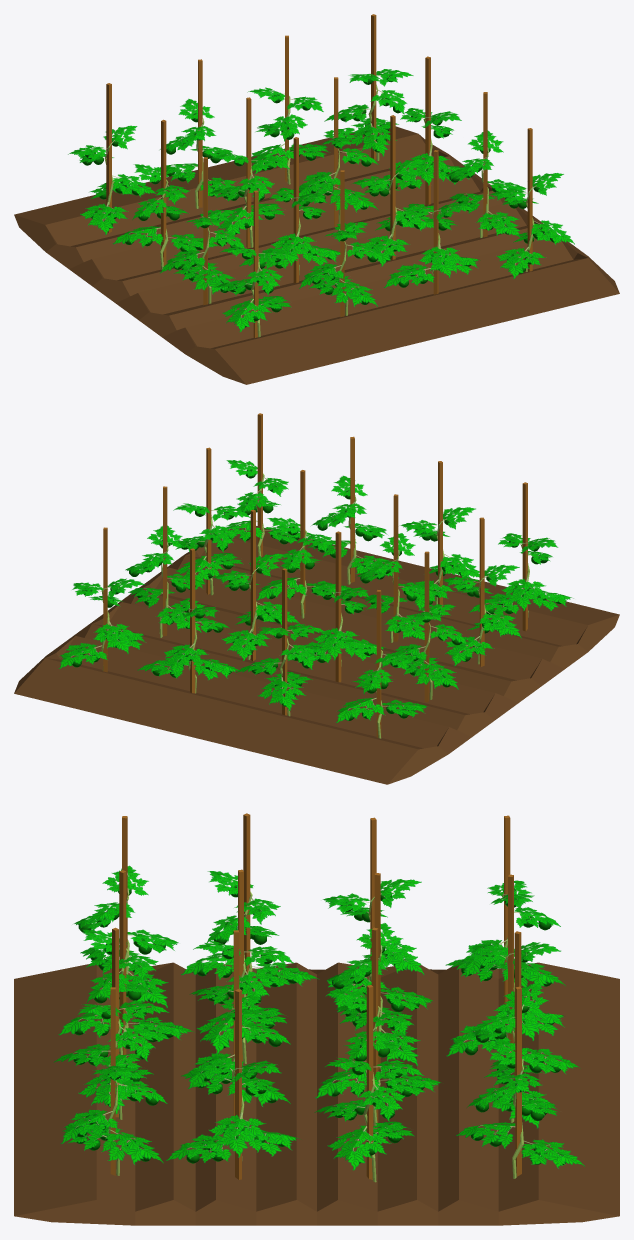
The model's file is tomato-stage2-w-Dirt.glb.
The picture shows the model from 3 angles, top to bottom: view 1: azimuth 30°, elevation 25°; view 2: azimuth 150°, elevation 25°; view 3: azimuth 270°, elevation 25°; orthographic projection. The views are drawn at different scales.
Parts seen in each view (by area): view 1: Soil.001, Tomatoe_F2; view 2: Soil.001, Tomatoe_F2; view 3: Soil.001, Tomatoe_F2.
Part boxes in pixels (bbox=[...]): Soil.001: bbox=[14, 126, 619, 384]; Tomatoe_F2: bbox=[68, 14, 574, 337]; Soil.001: bbox=[14, 525, 619, 784]; Tomatoe_F2: bbox=[58, 413, 573, 738]; Soil.001: bbox=[14, 962, 619, 1225]; Tomatoe_F2: bbox=[53, 813, 584, 1182].
Bounding box in the file's own units: 2.5 × 0.8909 × 2.5.
Materials: 2 (1 with a texture image).
